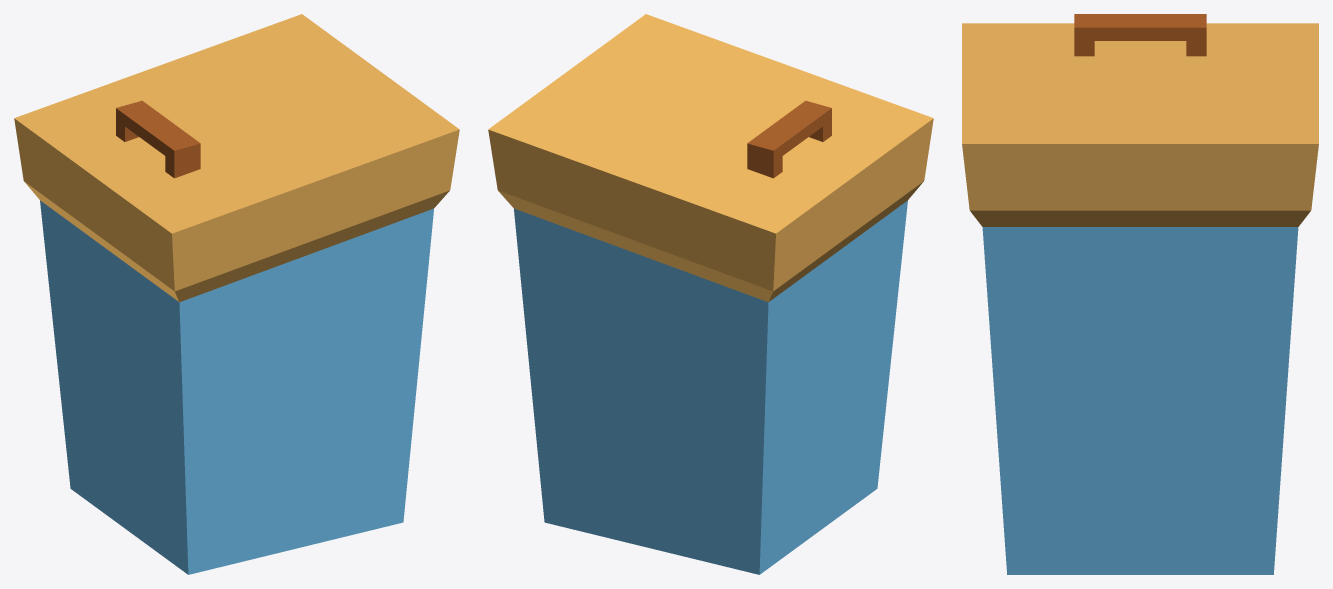
Rendered from wujian01.FBX.
3 renders of one model, left to right at view 1: azimuth 30°, elevation 25°; view 2: azimuth 150°, elevation 25°; view 3: azimuth 270°, elevation 25°, orthographic. The views are drawn at different scales.
Parts seen in each view (by area): view 1: wujian01; view 2: wujian01; view 3: wujian01.
Part boxes in pixels (bbox=[...]): wujian01: bbox=[14, 14, 459, 574]; wujian01: bbox=[488, 14, 933, 574]; wujian01: bbox=[962, 14, 1318, 574].
Bounding box in the file's own units: 99.06 × 131 × 94.04.
